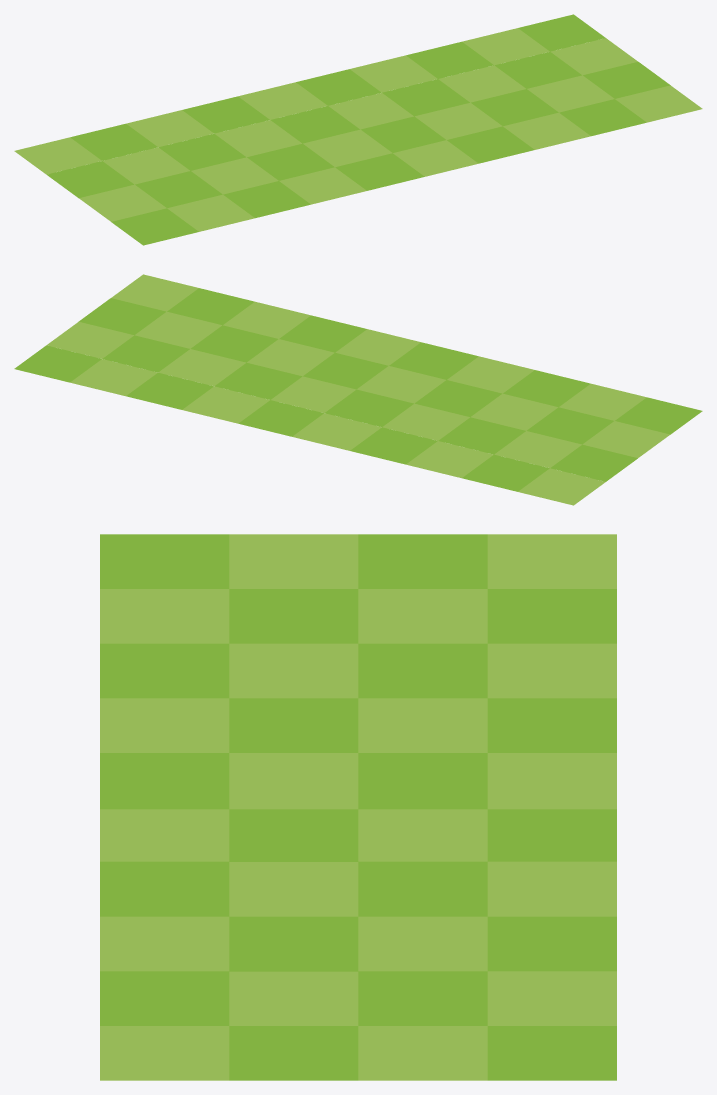
File: Grass4.fbx
3 views of the same model, one above another, from view 1: azimuth 30°, elevation 25°; view 2: azimuth 150°, elevation 25°; view 3: azimuth 270°, elevation 25° (orthographic). The views are drawn at different scales.
Visible parts, largest first — view 1: Plane.002; view 2: Plane.002; view 3: Plane.002.
Part boxes in pixels (box(x1,y1,x2,y2)): Plane.002: box(14, 14, 702, 245); Plane.002: box(14, 274, 702, 505); Plane.002: box(100, 534, 616, 1080).
Bounding box in the file's own units: 10 × 4.89e-07 × 4.
